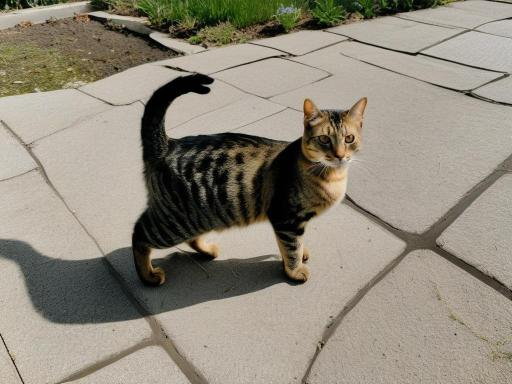cat_standing: (132, 74, 366, 286)
